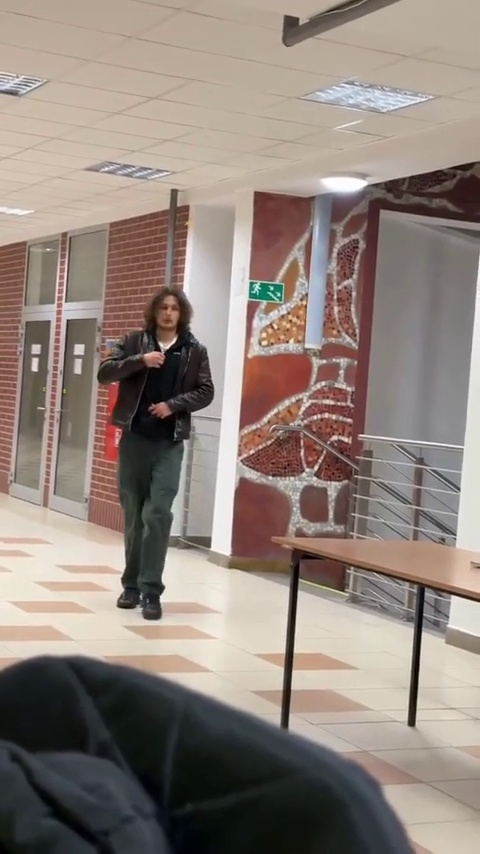no vest: (102, 281, 208, 617)
